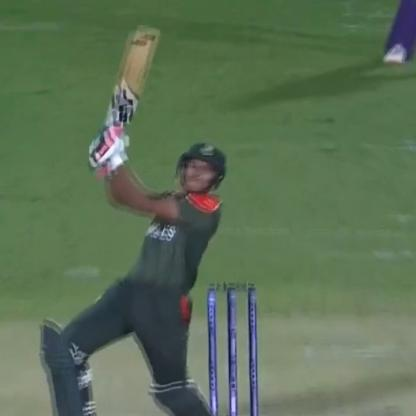bat: (106, 17, 158, 143)
